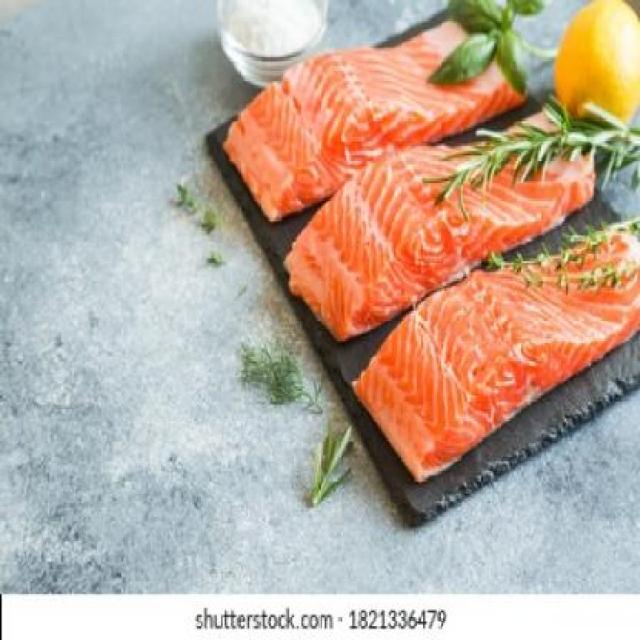salmon: (346, 188, 640, 478), (275, 128, 594, 354), (226, 10, 548, 228)
